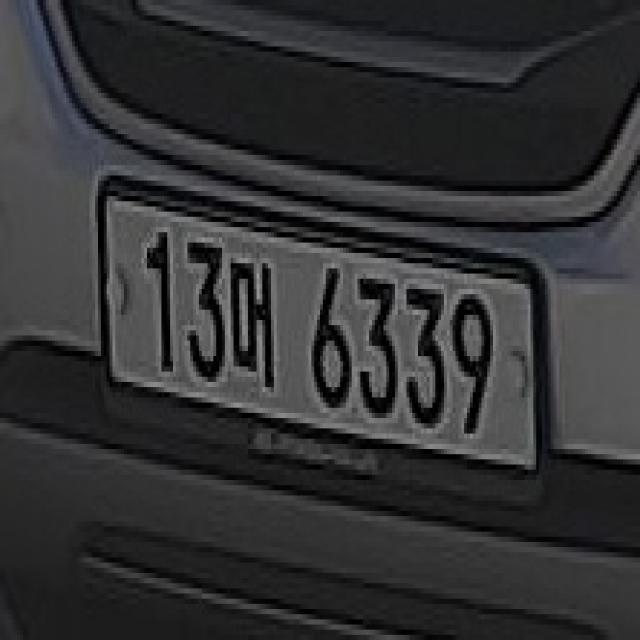1: (138, 207, 182, 387)
3: (352, 258, 404, 428), (404, 263, 449, 444), (185, 227, 228, 398)
6: (306, 263, 354, 423)
9: (447, 284, 499, 449)
license_plate: (92, 160, 551, 516)
meo: (228, 248, 280, 408)
